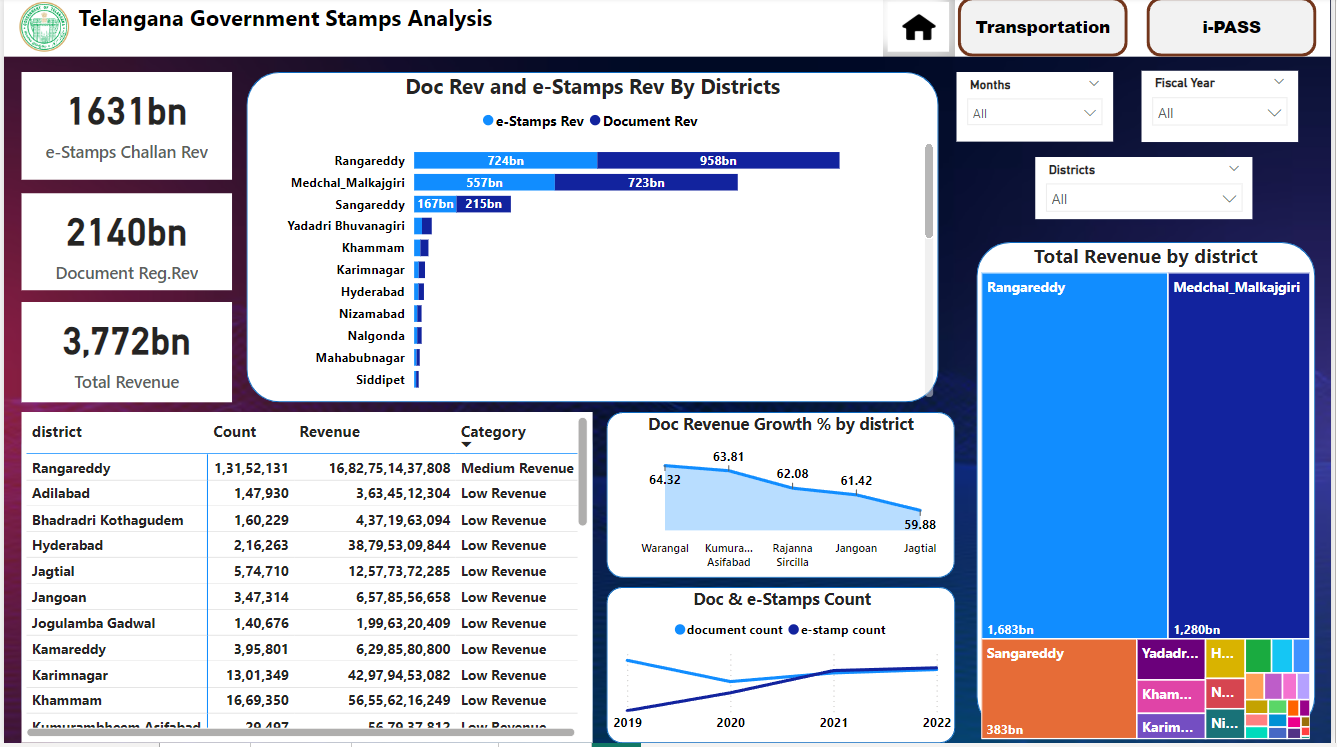

What the dashboard file says about the page in this screenshot:
{"tool":"powerbi","page":{"name":"Stamps","canvas":[1280,720],"ordinal":1},"visuals":[{"type":"textbox","box":[0,0,1279.7,57.7],"z":0},{"type":"cardVisual","fields":{"Data":["Telangana District.e-Stamps Challan Rev"]},"box":[17.3,72.1,203.4,103.9],"z":1000},{"type":"cardVisual","fields":{"Data":["Telangana District.Document Reg.Rev"]},"box":[17.3,189,203.4,93.8],"z":2000},{"type":"cardVisual","fields":{"Data":["Telangana District.Total Stamps Rev"]},"box":[17.3,294.3,203.4,96.7],"z":3000},{"type":"shape","box":[233.7,72.1,668,318.9],"z":4000},{"type":"barChart","title":"Doc Rev and e-Stamps Rev By Districts","fields":{"Category":["Telangana District.district"],"Y":["Telangana District.e-Stamps Challan Rev","Telangana District.Document Reg.Rev"]},"box":[233.7,72.1,668,318.9],"z":5000},{"type":"shape","box":[17.3,401.1,551.1,318.9],"z":6000},{"type":"shape","box":[581.4,401.1,336.2,160.1],"z":7000},{"type":"shape","box":[581.5,569.4,336.6,150.8],"z":8000},{"type":"pivotTable","fields":{"Rows":["Telangana District.district"],"Values":["Telangana District.Total Count","Telangana District.Total Revenue","Max(Telangana District.Category)"]},"box":[17.3,401.1,551.1,318.9],"z":9000},{"type":"areaChart","title":"Doc Revenue Growth %  by district","fields":{"Category":["Telangana District.district"],"Y":["Telangana District.Doc.Revenue Growth %"]},"box":[581.5,400.5,336.6,160.5],"z":10000},{"type":"lineChart","title":"Doc & e-Stamps Count","fields":{"Y":["Telangana District.document count","Telangana District.e-stamp count"],"Category":["Telangana District.fiscal_year"]},"box":[582.7,569.4,336.6,149.6],"z":11000},{"type":"slicer","fields":{"Values":["Telangana District.fiscal_year"]},"box":[1097.9,71.2,150.8,68.8],"z":12000},{"type":"slicer","fields":{"Values":["Telangana District.Month"]},"box":[919.3,72.4,150.8,67.6],"z":13000},{"type":"slicer","fields":{"Values":["Telangana District.district"]},"box":[995.3,154.4,209.9,60.3],"z":14000},{"type":"shape","box":[938.6,236.5,326.9,471.7],"z":15000},{"type":"treemap","fields":{"Group":["Telangana District.district"],"Values":["Telangana District.Total Revenue"]},"box":[938.5,235.9,326.9,484.6],"z":16000},{"type":"image","box":[848.7,0,69.2,57.7],"z":17000},{"type":"actionButton","box":[920.5,0,164.1,57.7],"z":18000},{"type":"actionButton","box":[1102.6,0,164.1,57.7],"z":19000},{"type":"image","box":[8.4,0,61.5,57.9],"z":20000}]}

Visuals, with their boxes in screenshot pixels (x1, y1, x2, y2), scaled from the page's 1280x720 canvas onto the 1337x747 screenshot:
textbox: 0/0/1336/60
cardVisual - Telangana District.e-Stamps Challan Rev: 18/75/231/183
cardVisual - Telangana District.Document Reg.Rev: 18/196/231/293
cardVisual - Telangana District.Total Stamps Rev: 18/305/231/406
shape: 244/75/942/406
"Doc Rev and e-Stamps Rev By Districts" barChart: 244/75/942/406
shape: 18/416/594/746
shape: 607/416/958/582
shape: 607/591/959/746
pivotTable - Telangana District.district x Telangana District.Total Count: 18/416/594/746
"Doc Revenue Growth %  by district" areaChart: 607/416/959/582
"Doc & e-Stamps Count" lineChart: 609/591/960/746
slicer - Telangana District.fiscal_year: 1147/74/1304/145
slicer - Telangana District.Month: 960/75/1118/145
slicer - Telangana District.district: 1040/160/1259/223
shape: 980/245/1322/735
treemap - Telangana District.district x Telangana District.Total Revenue: 980/245/1322/746
image: 886/0/959/60
actionButton: 961/0/1133/60
actionButton: 1152/0/1323/60
image: 9/0/73/60
